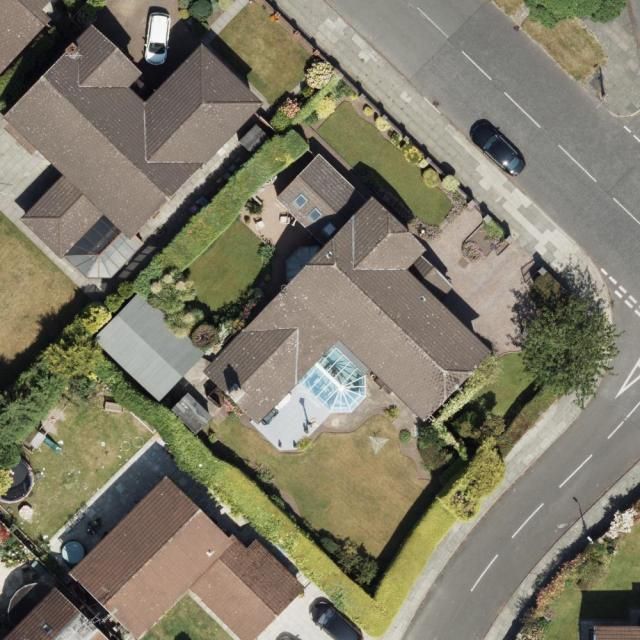roof: (201, 154, 493, 427), (2, 23, 263, 281), (68, 479, 306, 640), (0, 585, 114, 640), (0, 0, 56, 79)
skylight: (63, 215, 142, 280), (298, 347, 367, 413), (293, 192, 309, 210), (308, 207, 324, 222), (320, 223, 337, 237), (38, 622, 55, 636)
